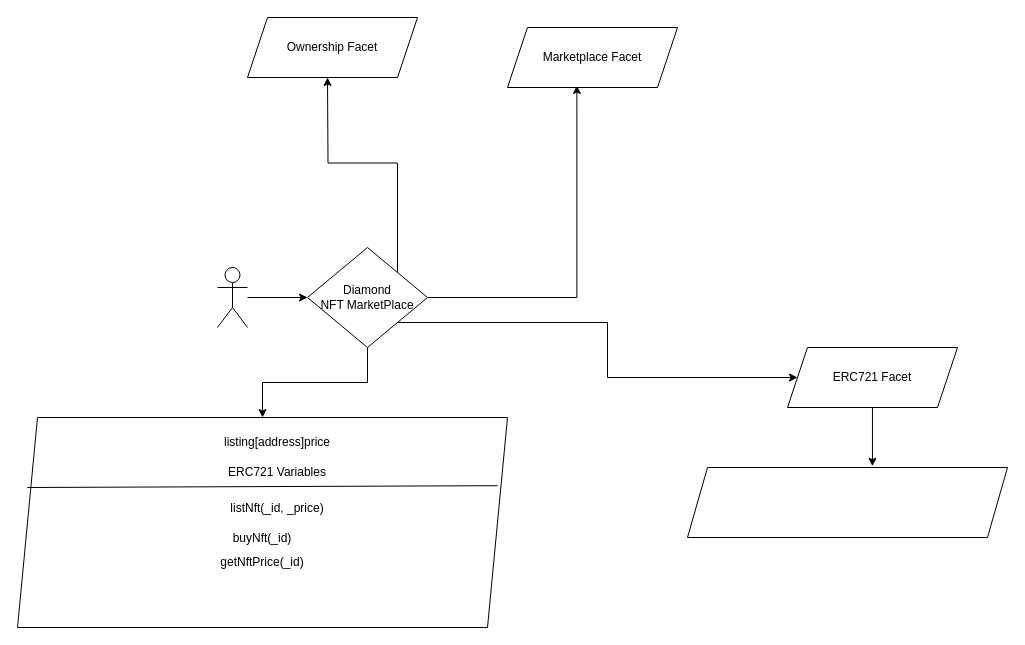
The diagram is 1025 pixels wide and 645 high, and some of its shapes have lost their labels. Here are the shapes that lost their labels. From the top down, the centre of each, then its label:
point 232,297: Actor
point 847,502: ERC721 Functions
